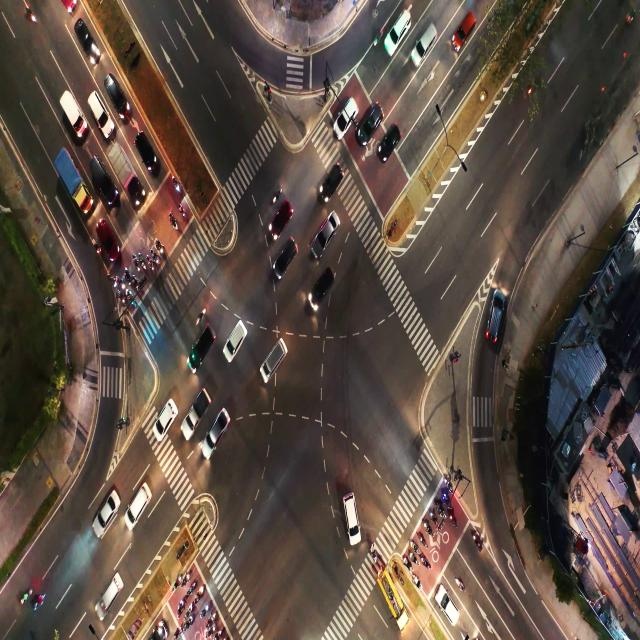bus: (388, 586, 396, 612)
car: (262, 345, 283, 372), (489, 300, 505, 333), (190, 339, 212, 361), (416, 30, 432, 60), (346, 495, 358, 531), (230, 327, 246, 350), (277, 246, 292, 270), (156, 405, 170, 430), (208, 421, 224, 442), (277, 201, 291, 223), (444, 588, 454, 618), (312, 281, 327, 301), (134, 488, 146, 512), (458, 16, 470, 39), (320, 218, 332, 240), (106, 580, 119, 600), (328, 170, 338, 193), (393, 20, 404, 40), (389, 122, 399, 144), (344, 102, 356, 119), (81, 30, 93, 46), (105, 498, 114, 518), (140, 141, 148, 162), (113, 78, 120, 100), (98, 104, 107, 120), (98, 169, 106, 185), (368, 108, 374, 128), (103, 226, 110, 242)
motorcycle: (35, 590, 49, 612), (473, 532, 485, 551), (270, 186, 284, 202), (172, 175, 182, 189), (196, 308, 204, 324), (21, 589, 30, 603), (182, 619, 192, 630), (426, 524, 435, 534), (110, 274, 116, 289), (456, 580, 464, 591), (371, 545, 376, 562), (173, 574, 180, 586), (180, 202, 185, 218), (424, 556, 430, 568), (185, 606, 191, 618), (94, 240, 100, 252), (413, 576, 420, 586), (180, 596, 185, 610), (449, 511, 455, 522), (118, 291, 124, 302), (198, 586, 203, 598), (208, 615, 214, 625), (126, 267, 131, 279), (119, 275, 123, 290), (127, 289, 131, 303), (217, 628, 222, 639), (134, 274, 139, 285), (446, 479, 452, 488), (203, 606, 209, 615), (411, 554, 417, 562), (171, 215, 175, 227), (184, 573, 188, 584), (438, 504, 443, 512), (189, 584, 194, 592), (158, 240, 162, 250), (154, 252, 158, 262), (431, 514, 437, 520), (410, 544, 417, 549), (444, 494, 448, 502), (148, 258, 152, 266), (419, 536, 424, 542), (134, 254, 136, 268), (140, 254, 142, 267), (406, 560, 410, 565)
truck: (190, 395, 202, 428), (70, 170, 81, 188), (121, 155, 130, 176), (72, 105, 78, 120)
